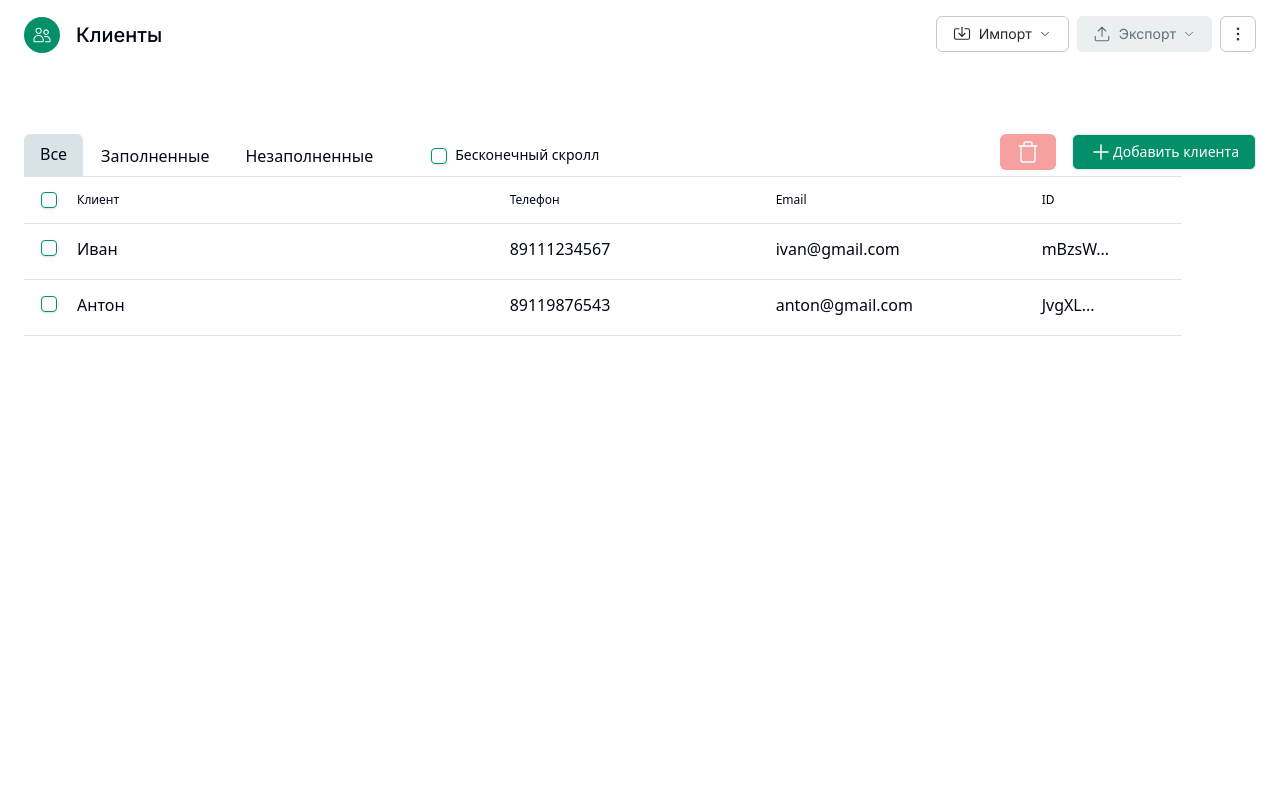
it: Customers table create/update/delete operations › create a new customer
Click the button "Добавить клиента".
click(1164, 152)  # box [1072,134,1256,170]
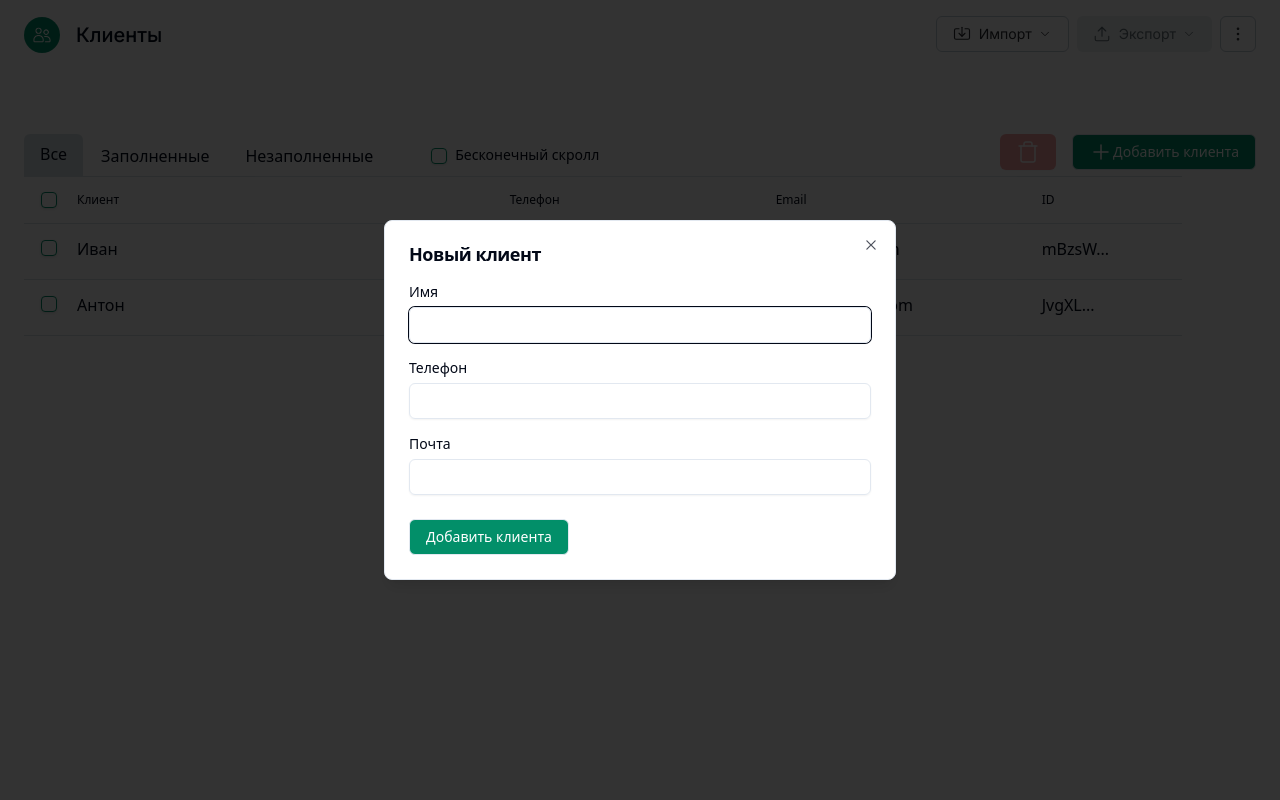
Expected: the dialog "Новый клиент Имя Телефон Почта Добавить клиента" is shown, [384,220,896,580]
Expected: the field labelled "Имя" is shown
Expected: the field labelled "Имя" is empty
Type "Test name" into the field labelled "Имя".
click(640, 325); type("Test name")  # box [409,307,871,343]
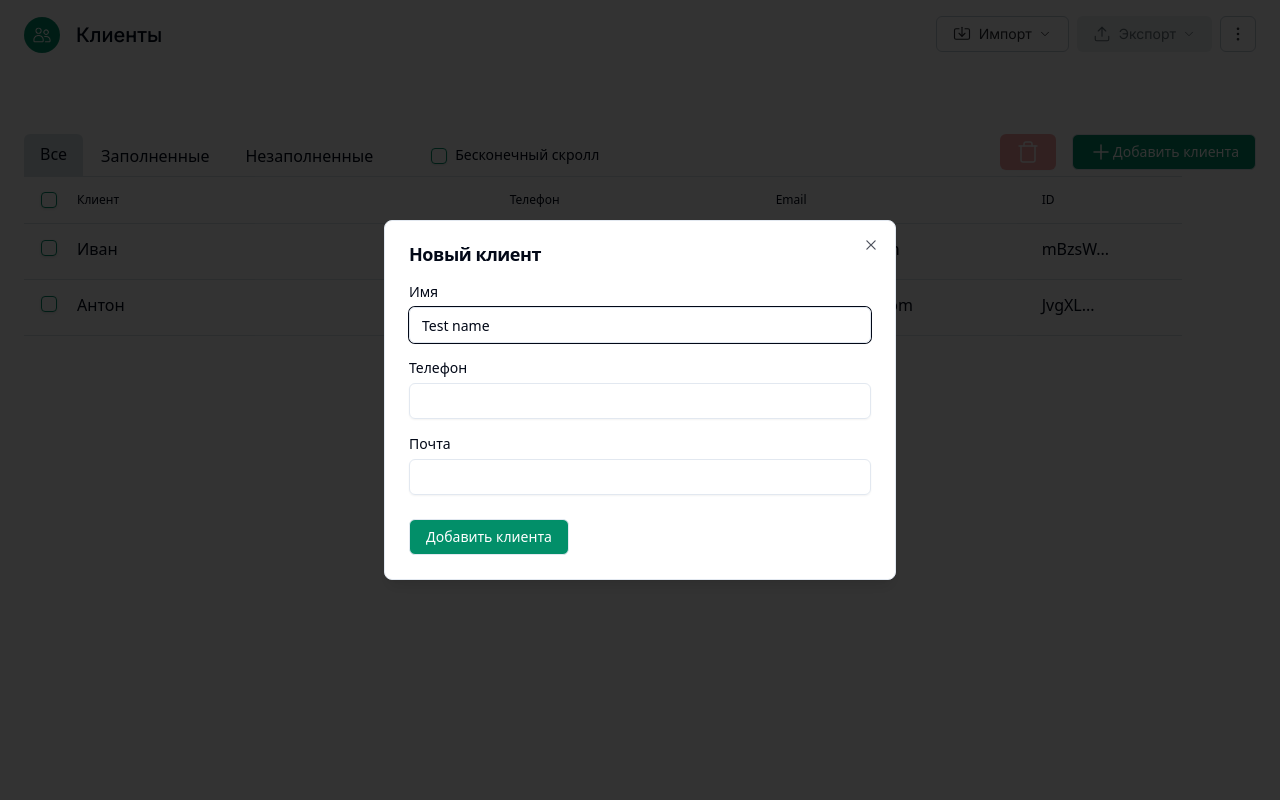
Type "89111234567" into the field labelled "Телефон".
click(640, 401); type("89111234567")  # box [409,383,871,419]
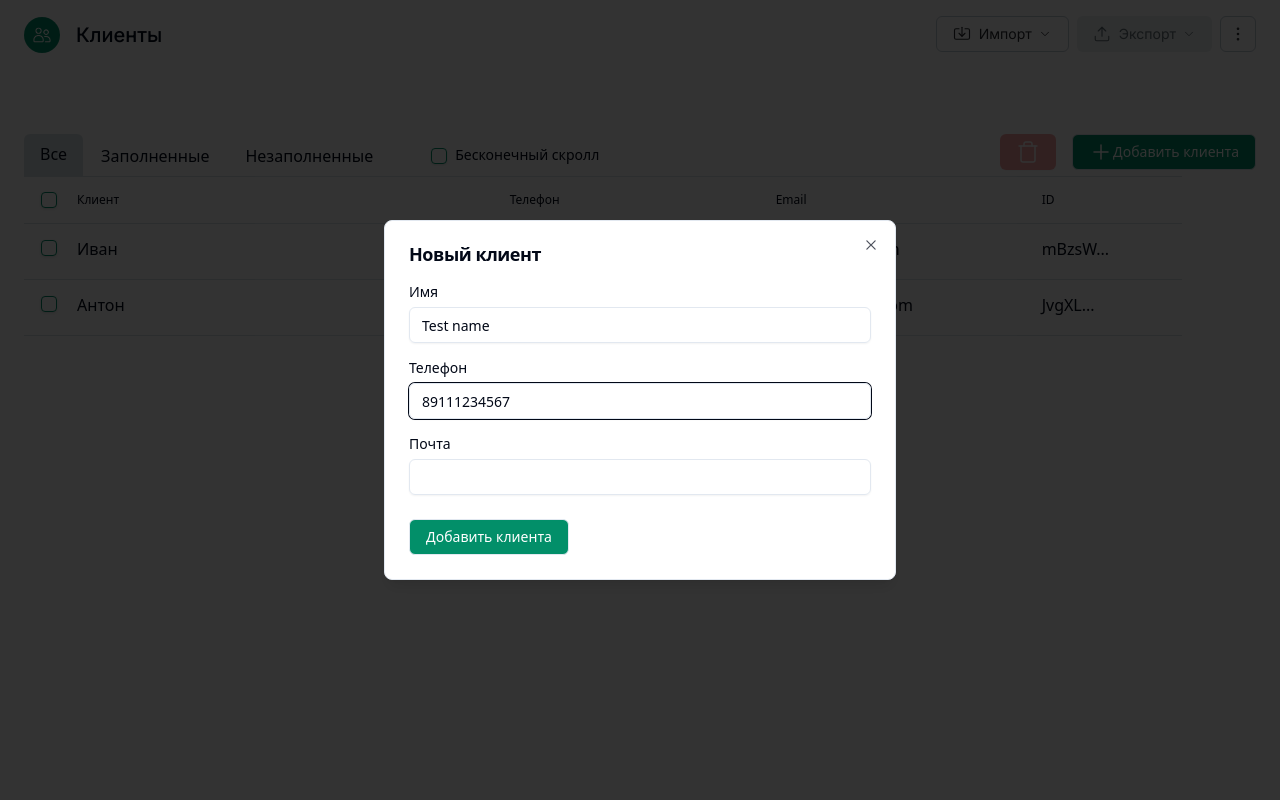
Type "test@mail.com" into the field labelled "Почта".
click(640, 477); type("test@mail.com")  # box [409,459,871,495]
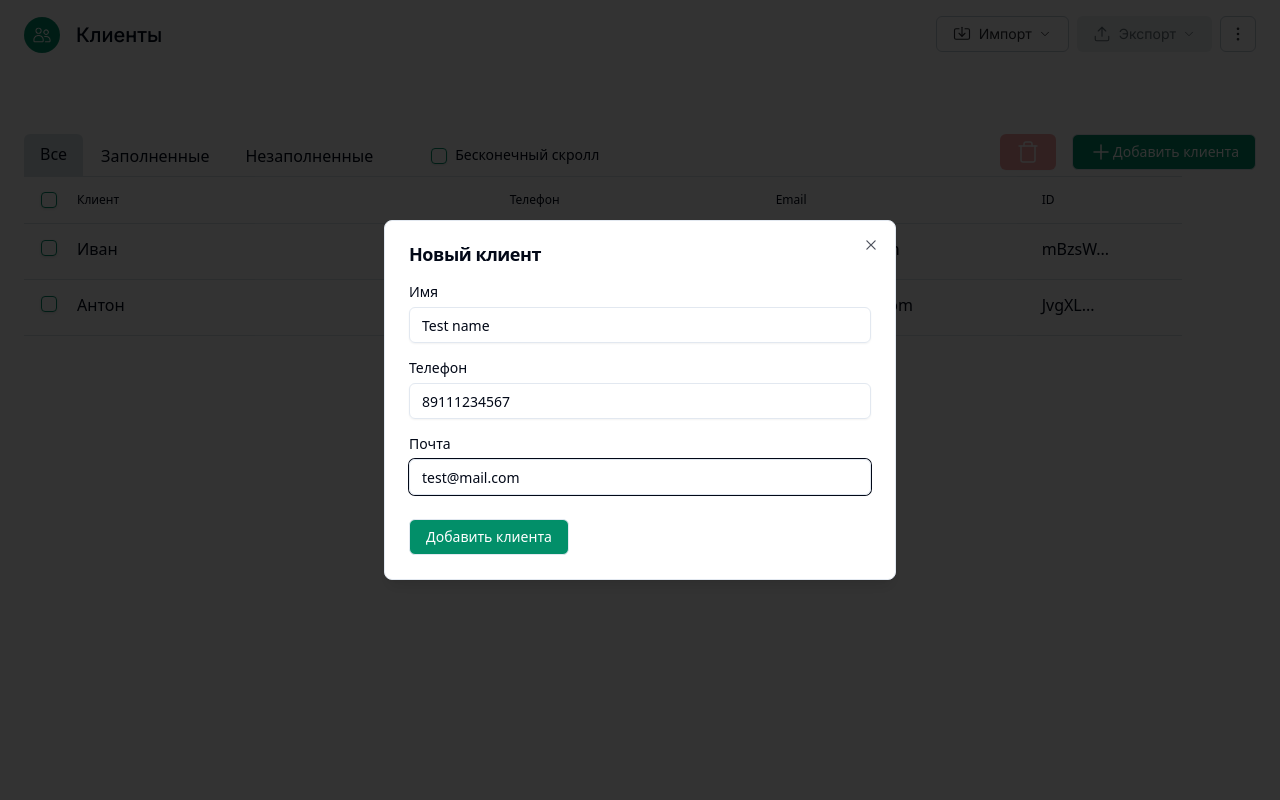
Note: Submit and close dialog
Press Enter
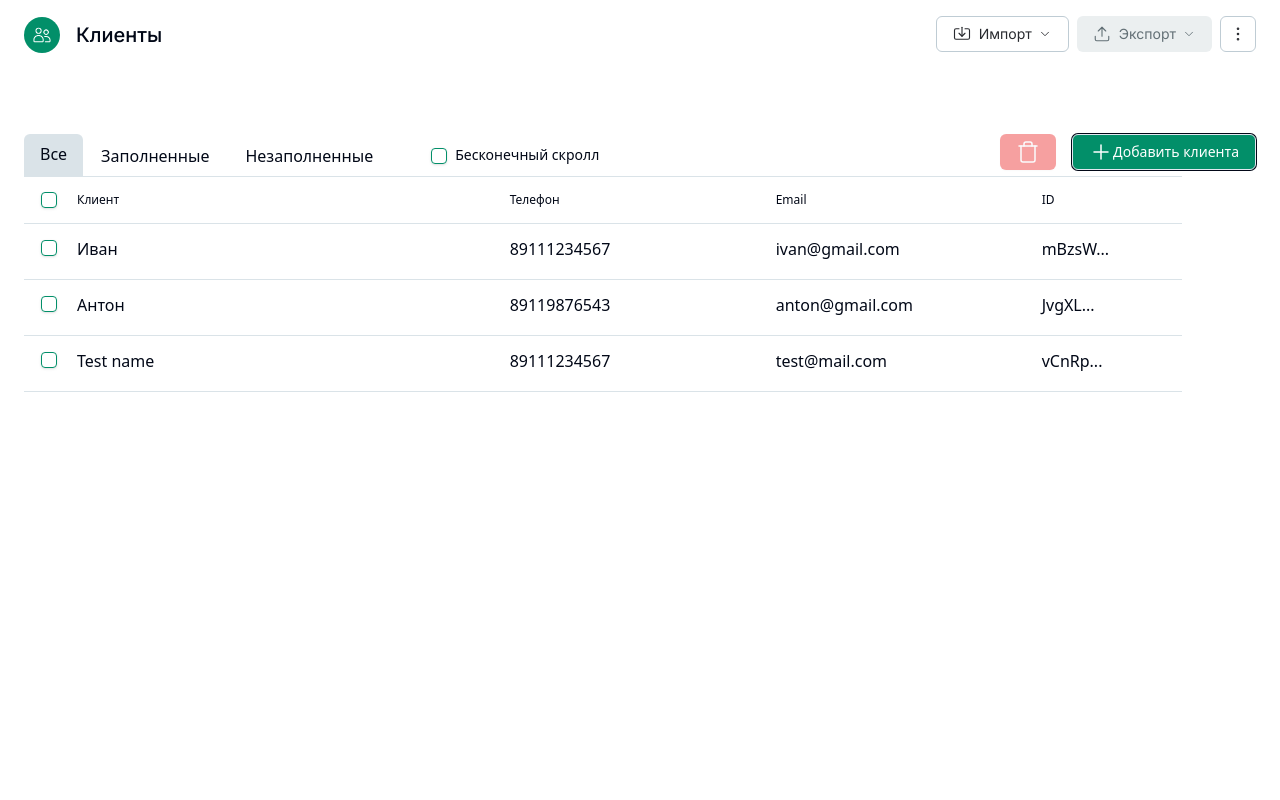
Expected: the heading "Новый клиент" is gone
Expected: the row "Test name 89111234567 test@mail.com" is shown, [24,336,1182,392]
